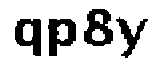8: (81, 6, 114, 47)
p: (47, 16, 78, 60)
q: (12, 15, 43, 60)
y: (113, 14, 147, 60)
